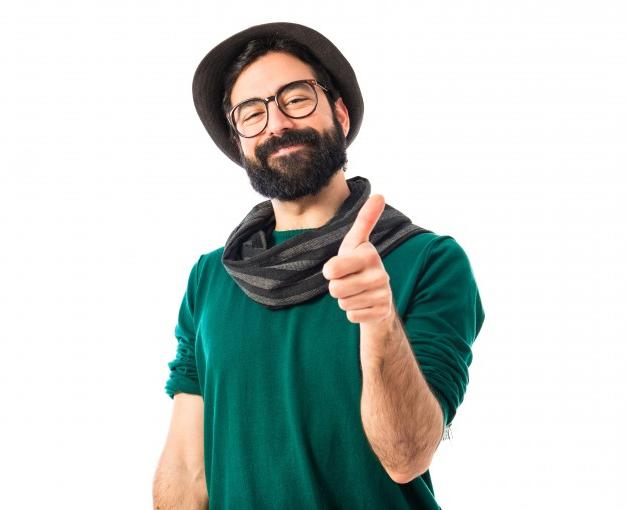thumbsup: (322, 194, 393, 324)
